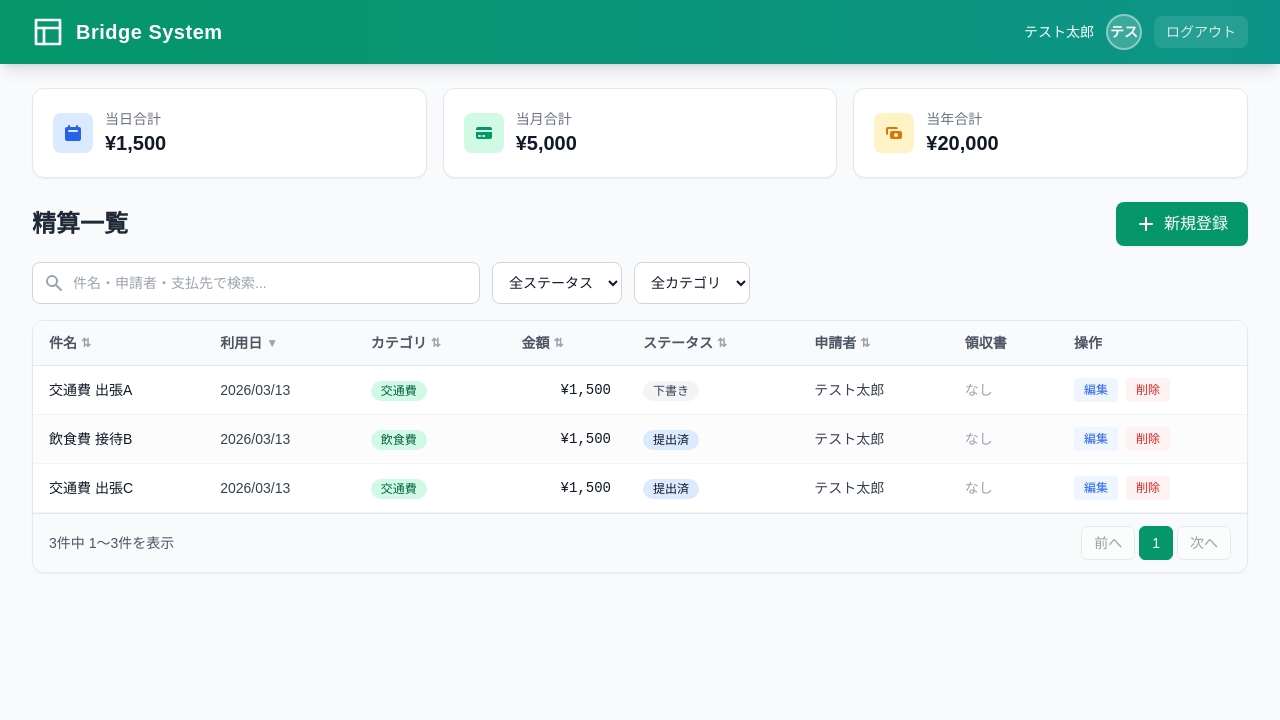
Test: ExpenseList › フィルター › ステータスでフィルターできる
The width and height of the screenshot is (1280, 720).
Select "提出済" in the dropdown showing "全ステータス" at (557, 283), box [492,262,622,304]
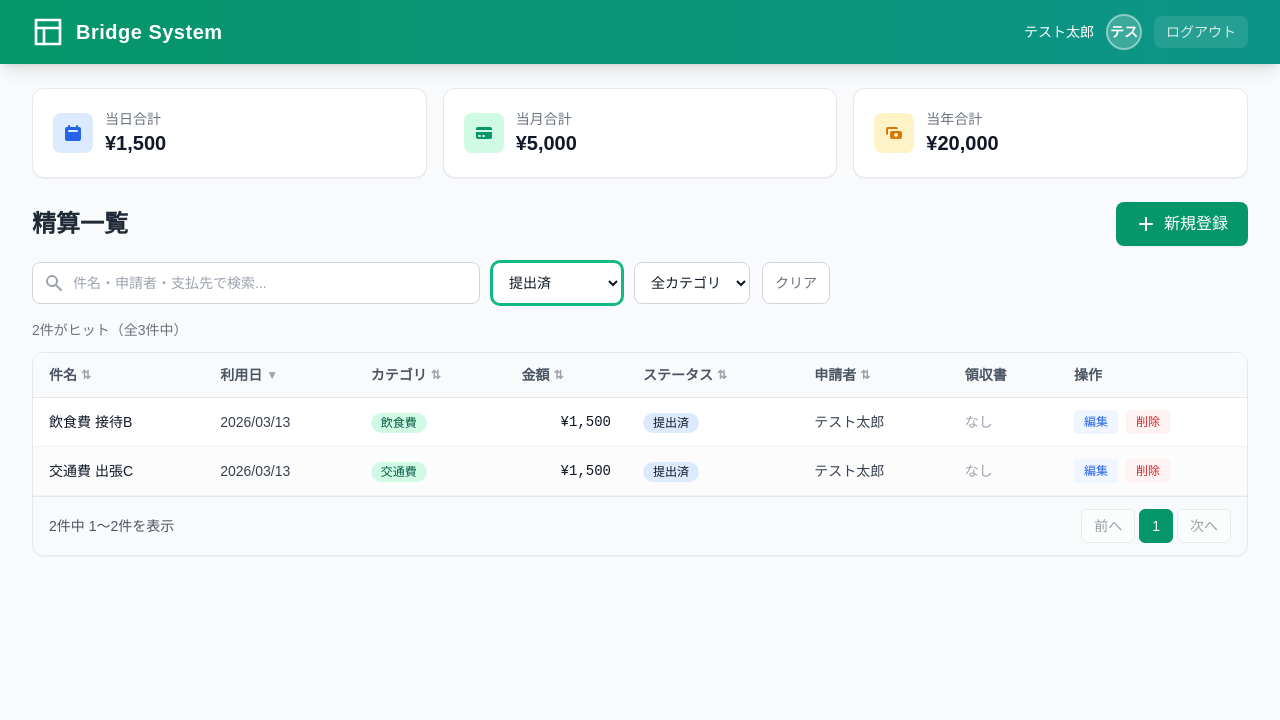
Expected: the text "飲食費 接待B" is shown, [33,398,204,446]
Now the text "交通費 出張A" is gone
